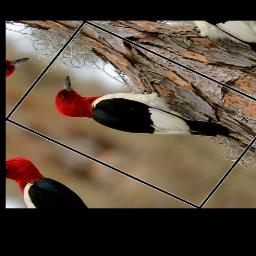Woodpecker: (39, 41, 256, 182)
